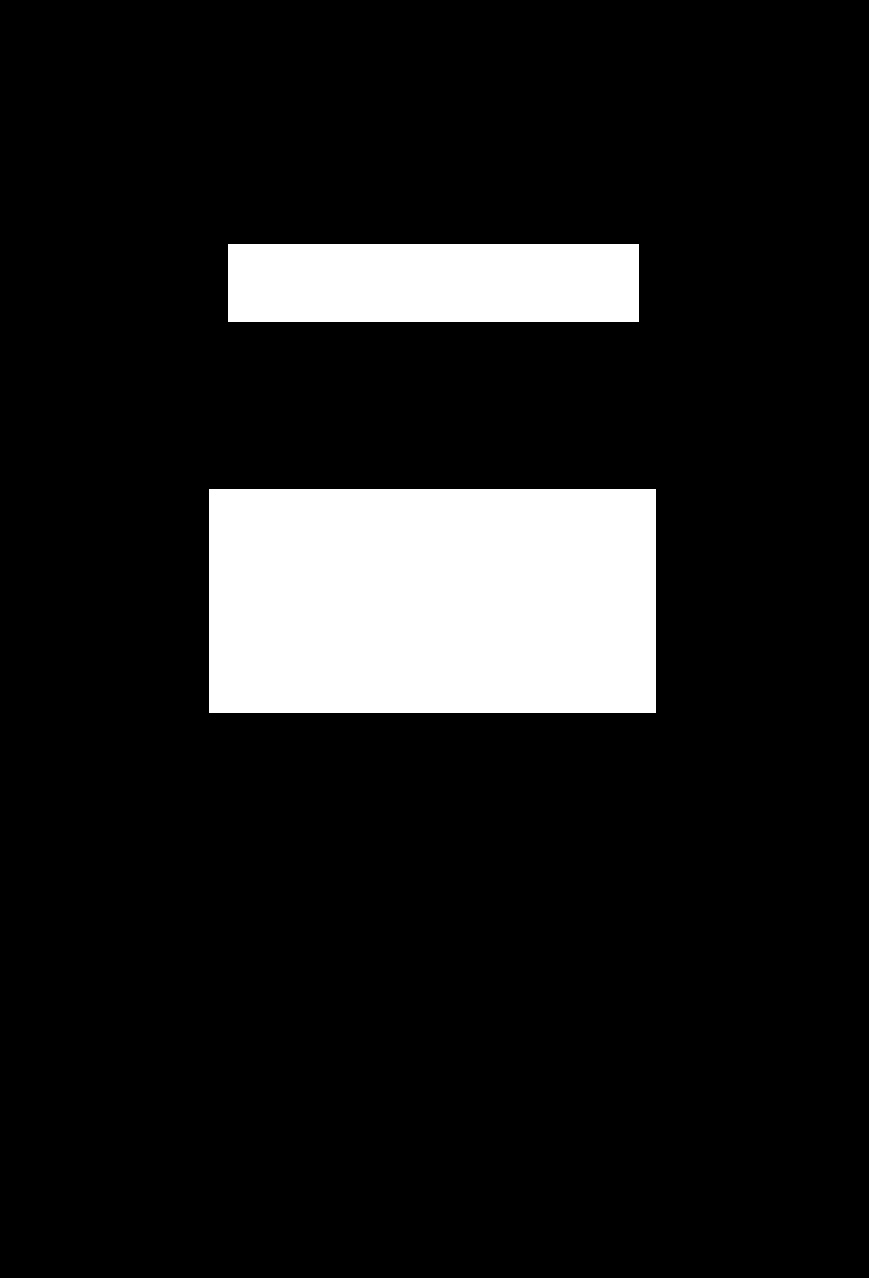table: (209, 489, 655, 712), (228, 244, 638, 321)
